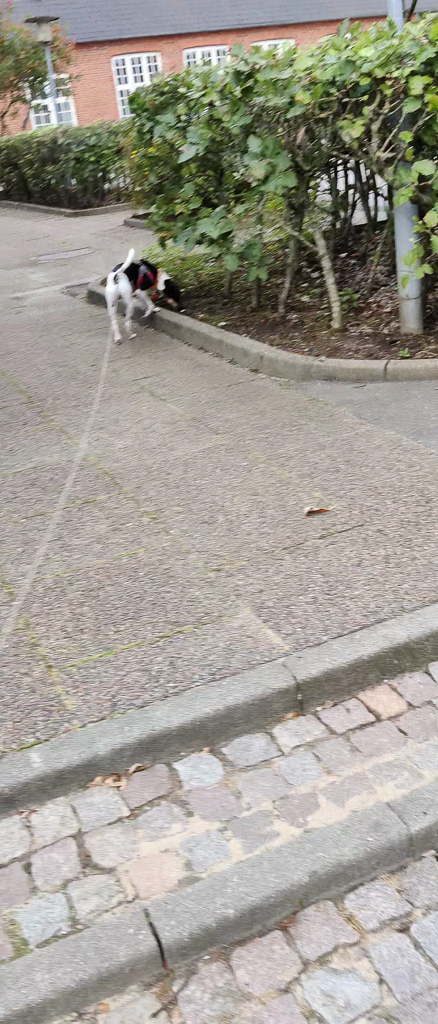Dog: (94, 244, 189, 349)
